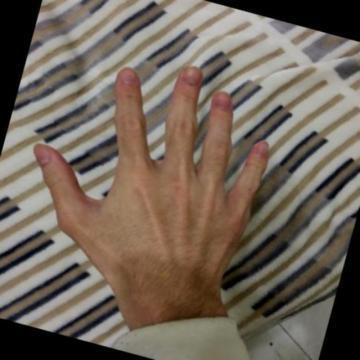hand: (32, 63, 270, 288)
